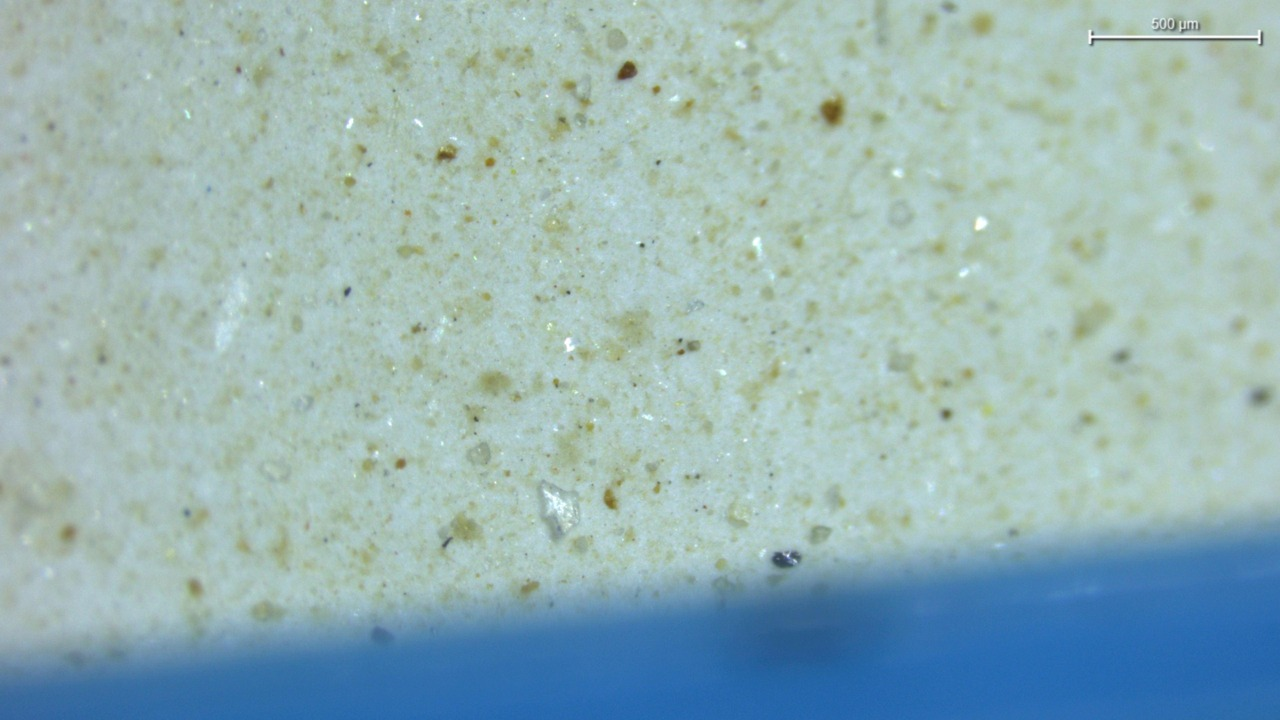microplastic_fragment: (538, 482, 580, 542)
